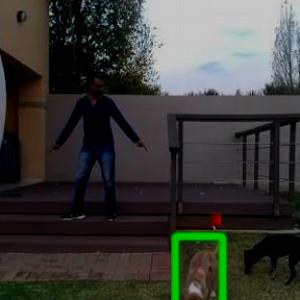land: (56, 70, 142, 229)
